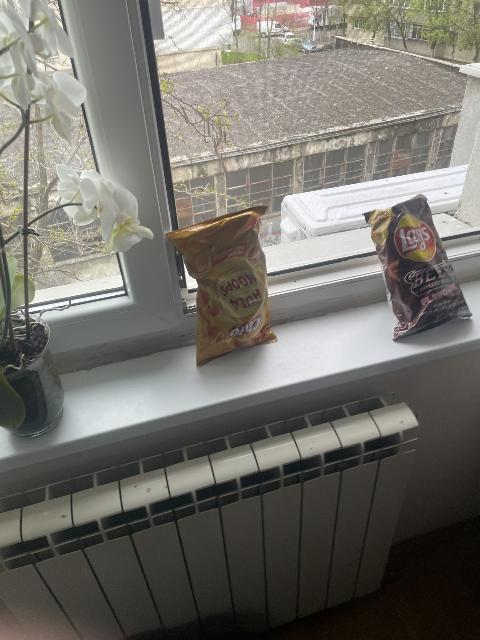Chio Hula Hoops Cheese 70g: (164, 207, 277, 364)
Lays Beef Grilled Ribs 125g: (364, 194, 473, 339)
